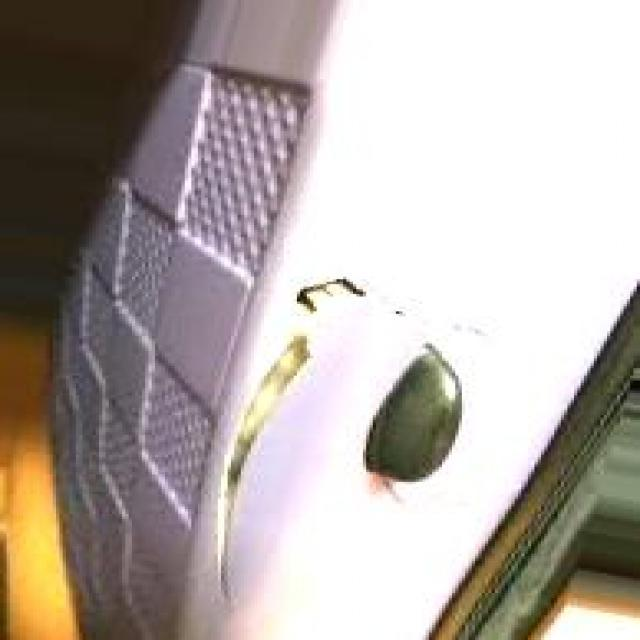Damage-bag: (218, 335, 310, 599), (296, 278, 365, 312)
